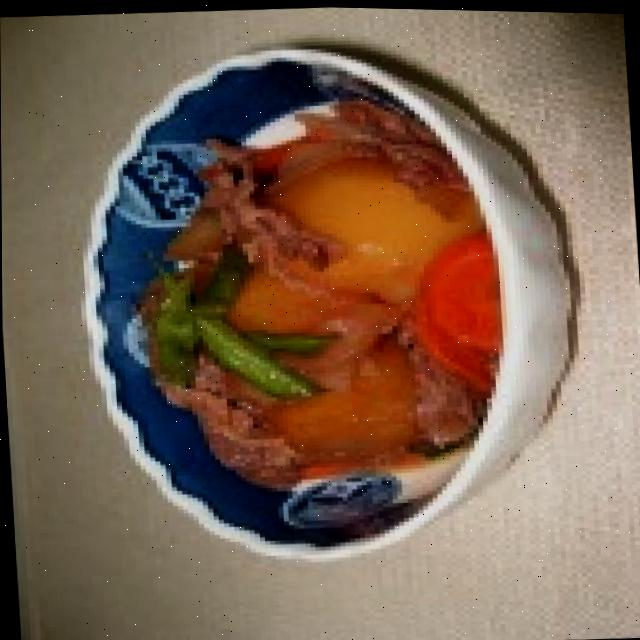牛肉菜式: (62, 38, 590, 572)
